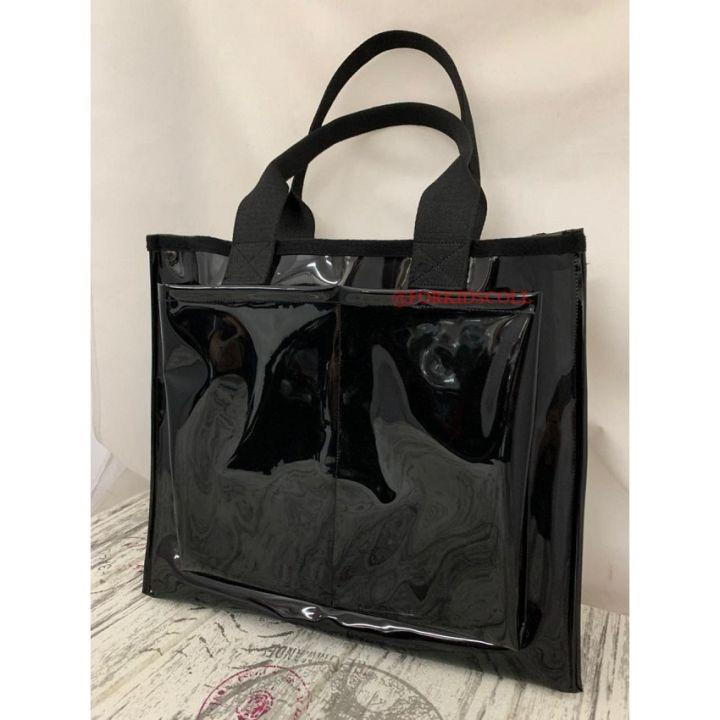PVC: (142, 29, 585, 696)
